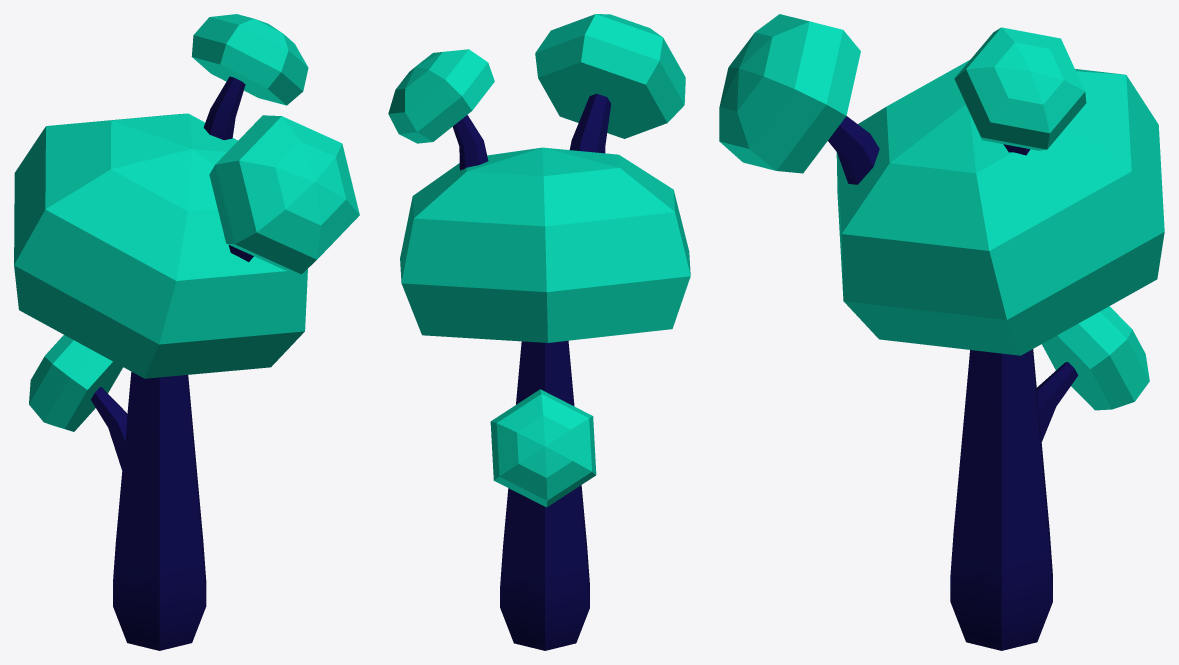
Rendered from Mushroom_1.fbx.
The picture shows the model from 3 angles, left to right: view 1: azimuth 30°, elevation 25°; view 2: azimuth 150°, elevation 25°; view 3: azimuth 270°, elevation 25°; orthographic projection. The views are drawn at different scales.
Parts seen in each view (by area): view 1: glow, stem; view 2: glow, stem; view 3: glow, stem.
Boxes of the visible parts, x1=… form: glow: x1=14, y1=14, x2=359, y2=431; stem: x1=91, y1=76, x2=253, y2=650; glow: x1=388, y1=14, x2=690, y2=507; stem: x1=452, y1=93, x2=611, y2=650; glow: x1=719, y1=14, x2=1164, y2=410; stem: x1=828, y1=116, x2=1078, y2=650.
Bounding box in the file's own units: 8.1 × 15.4 × 9.58.
